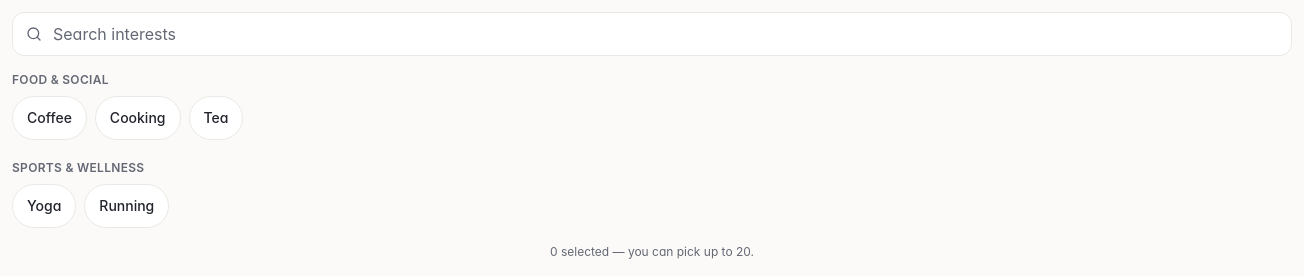
Test case: InterestPicker › supports search across the catalogue
Type "yog" into the search field labelled "Search interests".
click(652, 34); type("yog")  # box [12,12,1292,56]
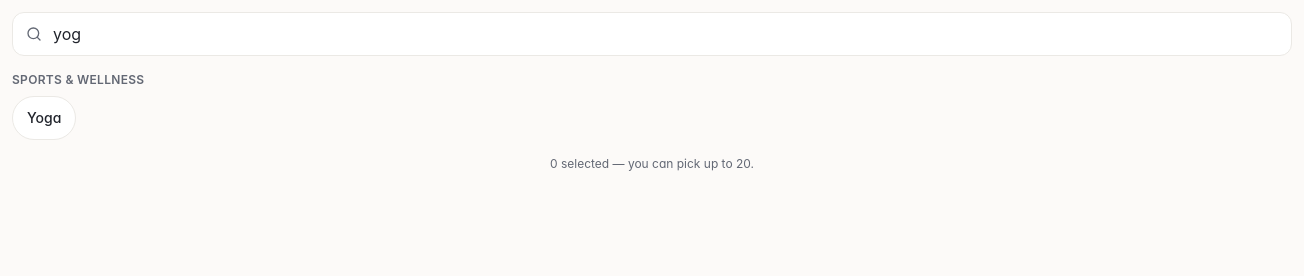
Expected: the button "Yoga" is shown, [12,96,76,140]
Expected: the button "Coffee" is gone
